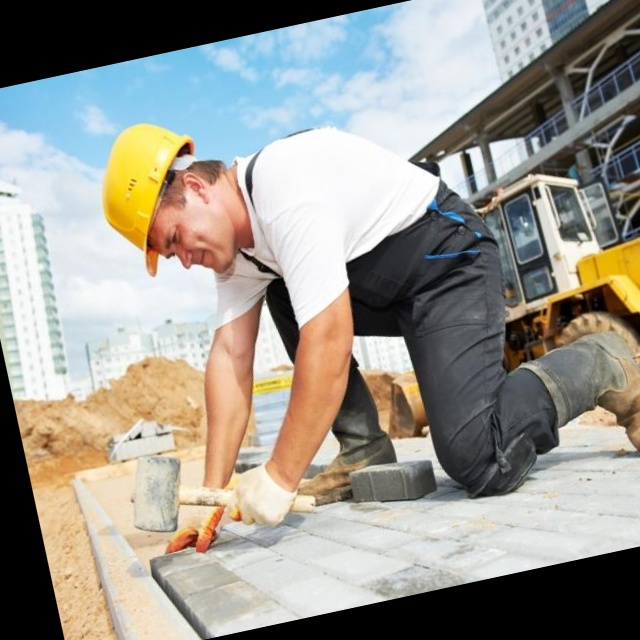Con_Casco: (91, 107, 252, 291)
